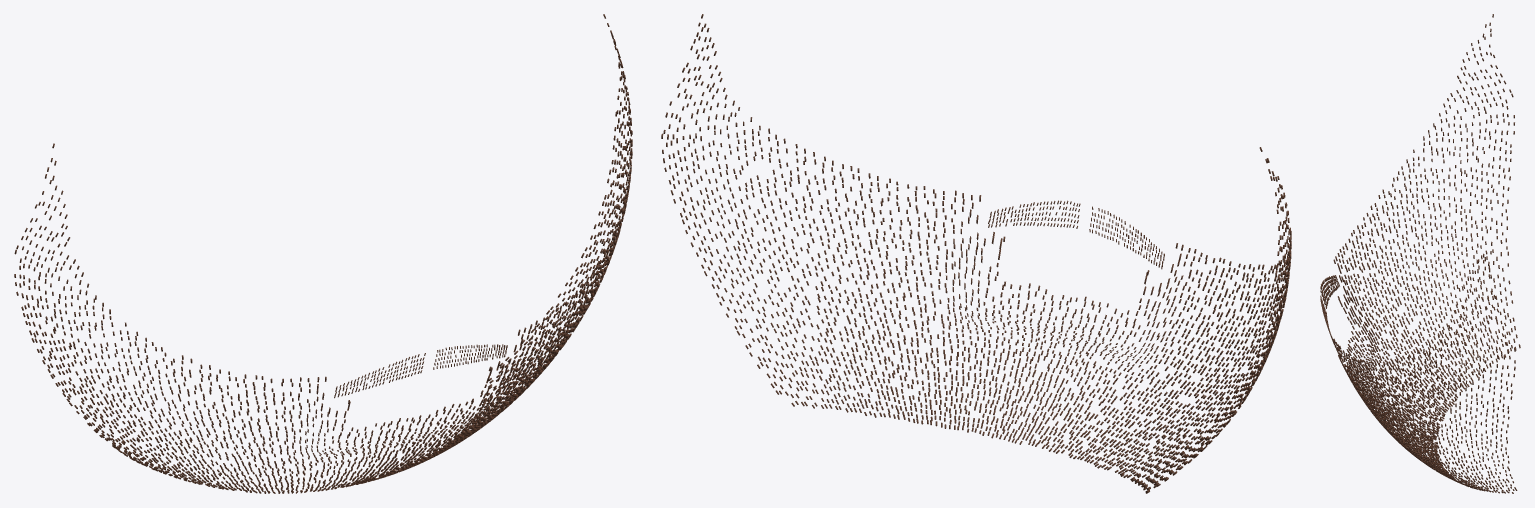
Rendered from Masculine-groom-stubble.glb.
The picture shows the model from 3 angles, left to right: view 1: azimuth 30°, elevation 25°; view 2: azimuth 150°, elevation 25°; view 3: azimuth 270°, elevation 25°; orthographic projection. The views are drawn at different scales.
Parts seen in each view (by area): view 1: Groom / clean stubble184, Groom / upper lip stubble191; view 2: Groom / clean stubble184, Groom / upper lip stubble191; view 3: Groom / clean stubble184, Groom / upper lip stubble191.
Boxes of the visible parts, x1=… form: Groom / clean stubble184: x1=14, y1=14, x2=632, y2=493; Groom / upper lip stubble191: x1=334, y1=344, x2=507, y2=398; Groom / clean stubble184: x1=661, y1=14, x2=1291, y2=493; Groom / upper lip stubble191: x1=988, y1=200, x2=1164, y2=269; Groom / clean stubble184: x1=1333, y1=14, x2=1520, y2=493; Groom / upper lip stubble191: x1=1320, y1=275, x2=1339, y2=354.
Size of the model in its own units: 0.9537 by 0.5782 by 0.328.
